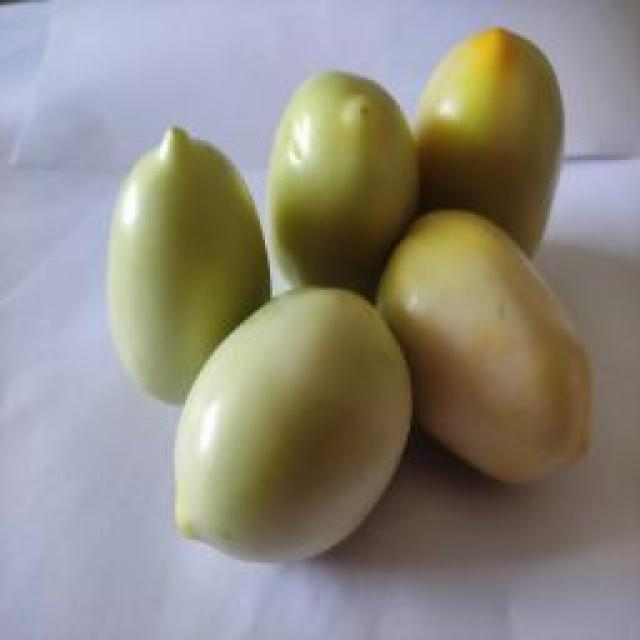tomato: (173, 285, 413, 568), (381, 211, 595, 484), (104, 124, 274, 404), (407, 27, 567, 260), (264, 73, 419, 304)
